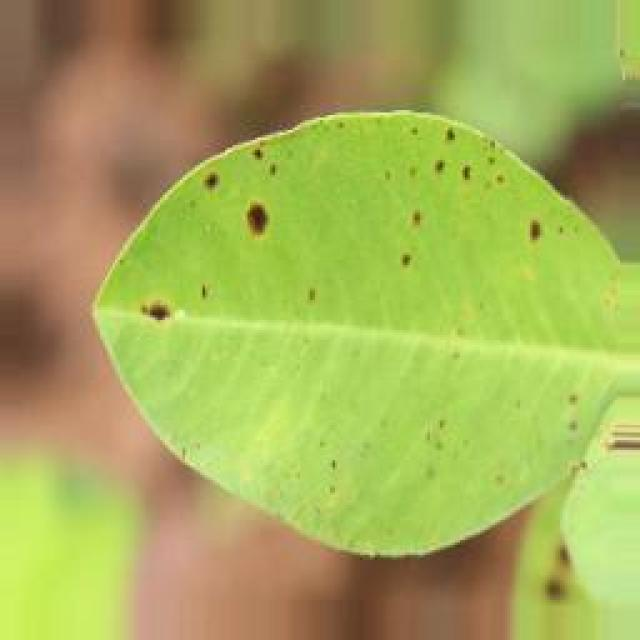Yellowish: (57, 95, 568, 378)
